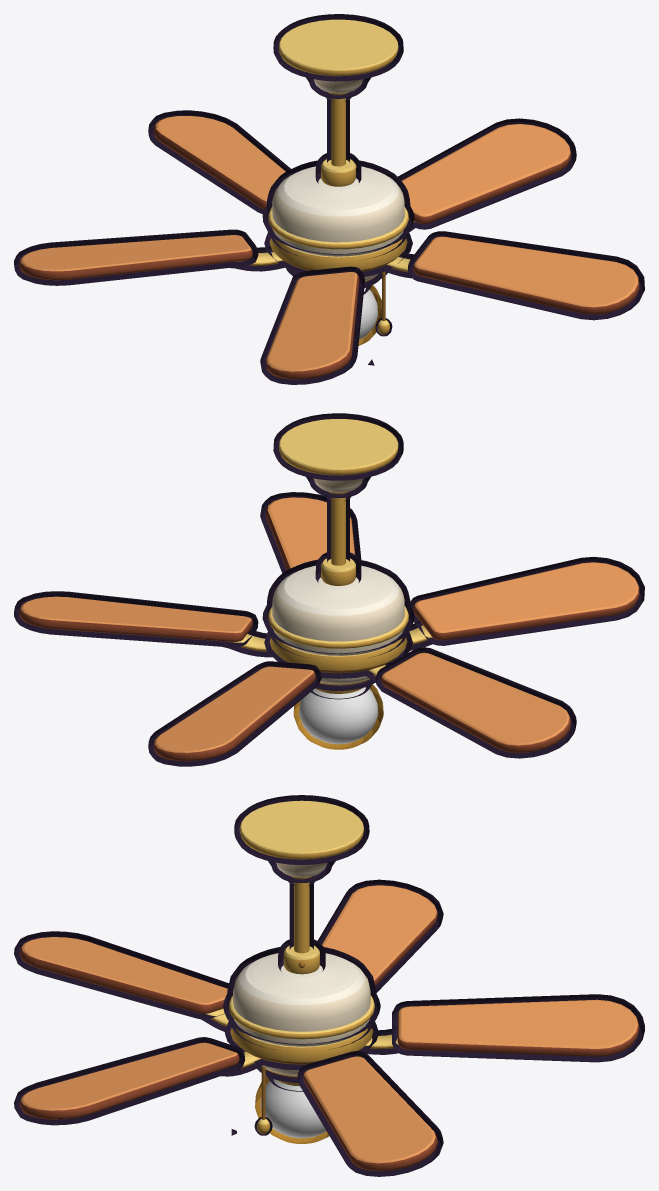
File: CeilingFan.glb
The picture shows the model from 3 angles, top to bottom: view 1: azimuth 30°, elevation 25°; view 2: azimuth 150°, elevation 25°; view 3: azimuth 270°, elevation 25°; orthographic projection. The views are drawn at different scales.
Parts seen in each view (by area): view 1: FanBlades, CeilingFan, CeilingFan_Outline, FanLight; view 2: FanBlades, CeilingFan, CeilingFan_Outline, FanLight; view 3: FanBlades, CeilingFan, CeilingFan_Outline, FanLight.
Part boxes in pixels (x1,y1,x2,y2): FanBlades: (14,110,644,384); CeilingFan: (268,19,408,334); CeilingFan_Outline: (262,14,414,345); FanLight: (359,288,378,339); FanBlades: (14,492,644,766); CeilingFan: (268,419,408,693); CeilingFan_Outline: (262,413,414,749); FanLight: (299,687,378,744); FanBlades: (14,879,644,1176); CeilingFan: (228,800,374,1134); CeilingFan_Outline: (223,795,380,1143); FanLight: (260,1079,326,1138).
Bounding box in the file's own units: 9.75 × 5.17 × 9.35.
1 material, 1 textured.
